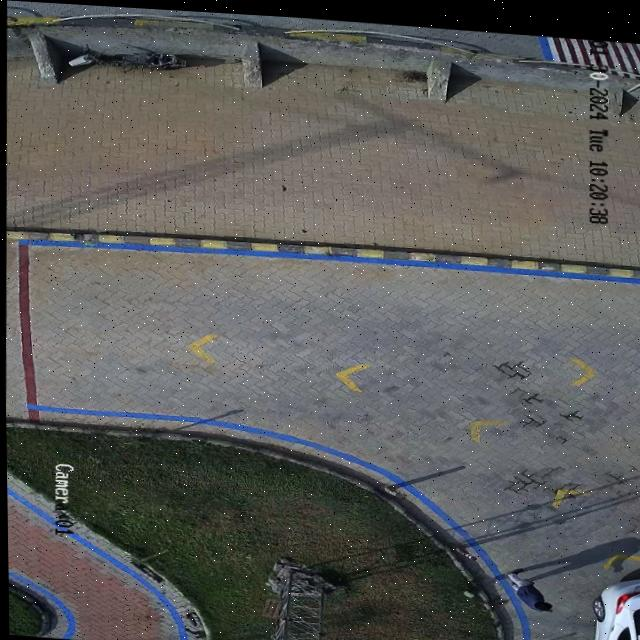car: (590, 570, 640, 640)
